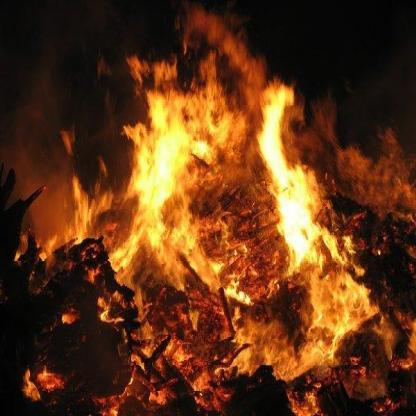fire: (13, 4, 409, 410)
